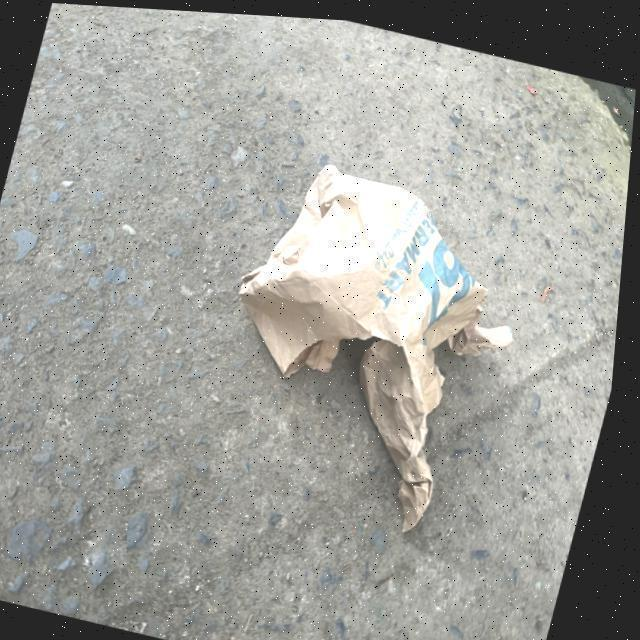Paper_Bag: (200, 145, 522, 536)
